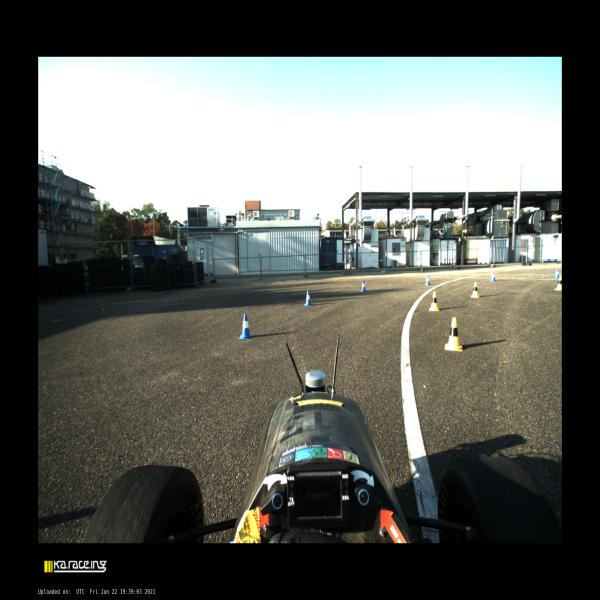blue_cone: (238, 313, 254, 341), (304, 290, 312, 307), (489, 270, 497, 282), (360, 280, 367, 293), (424, 274, 431, 286), (553, 269, 559, 279)
yellow_cone: (444, 317, 463, 352), (429, 291, 440, 312), (470, 281, 480, 299), (553, 276, 562, 292)
